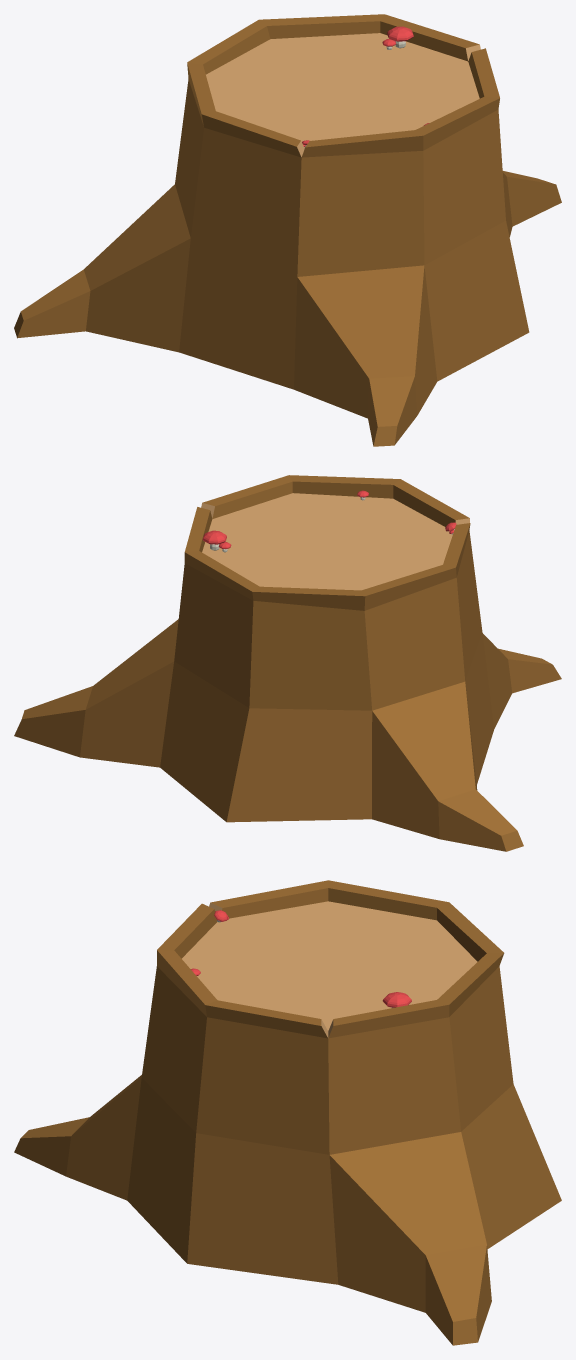
Rendered from ENV_Stump01_Placeholder.fbx.
3 renders of one model, top to bottom at view 1: azimuth 30°, elevation 25°; view 2: azimuth 150°, elevation 25°; view 3: azimuth 270°, elevation 25°, orthographic. The views are drawn at different scales.
Parts seen in each view (by area): view 1: Circle.001; view 2: Circle.001; view 3: Circle.001.
Boxes of the visible parts, bbox=[...] form: Circle.001: bbox=[14, 14, 561, 446]; Circle.001: bbox=[14, 475, 561, 851]; Circle.001: bbox=[14, 880, 561, 1345].
Size of the model in its own units: 242 by 297 by 124.
